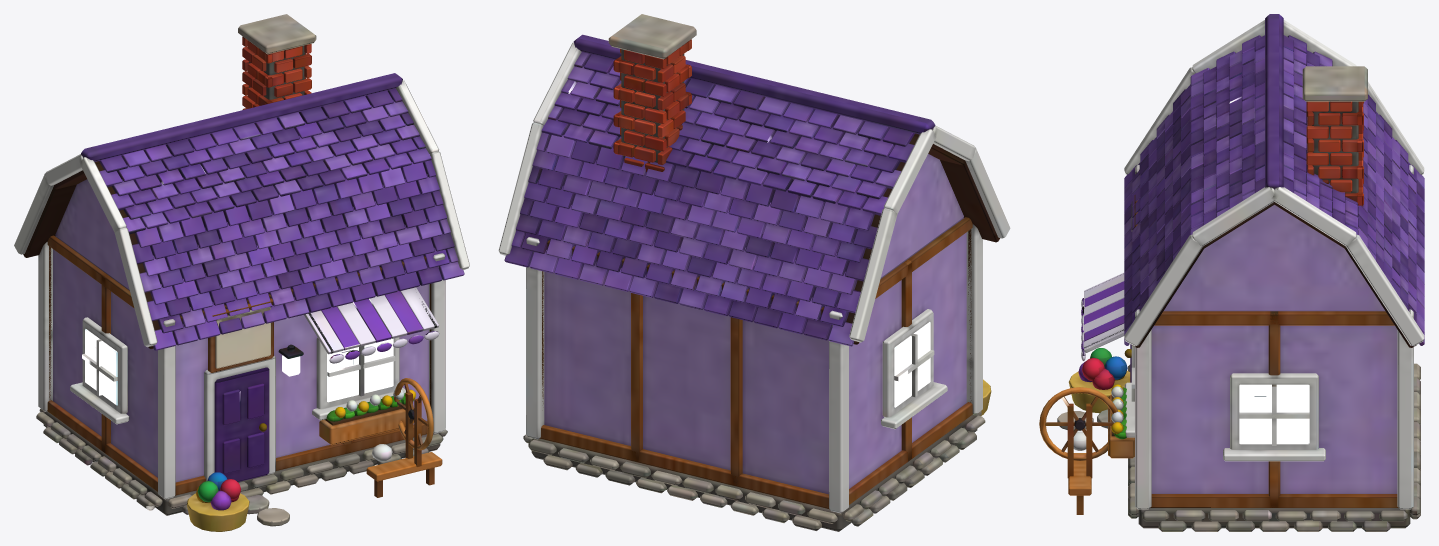
The model's file is loom.glb.
The picture shows the model from 3 angles, left to right: view 1: azimuth 30°, elevation 25°; view 2: azimuth 150°, elevation 25°; view 3: azimuth 270°, elevation 25°; orthographic projection. The views are drawn at different scales.
Visible parts, largest first — view 1: loom, spinX_wheel; view 2: loom; view 3: loom, spinX_wheel.
Part boxes in pixels (x1,y1,x2,y2): loom: (14, 14, 469, 531); spinX_wheel: (394, 378, 433, 450); loom: (498, 14, 1010, 531); loom: (1057, 14, 1424, 531); spinX_wheel: (1039, 387, 1117, 460).
Size of the model in its own units: 1.74 by 1.95 by 1.65.
1 material, 1 textured.
